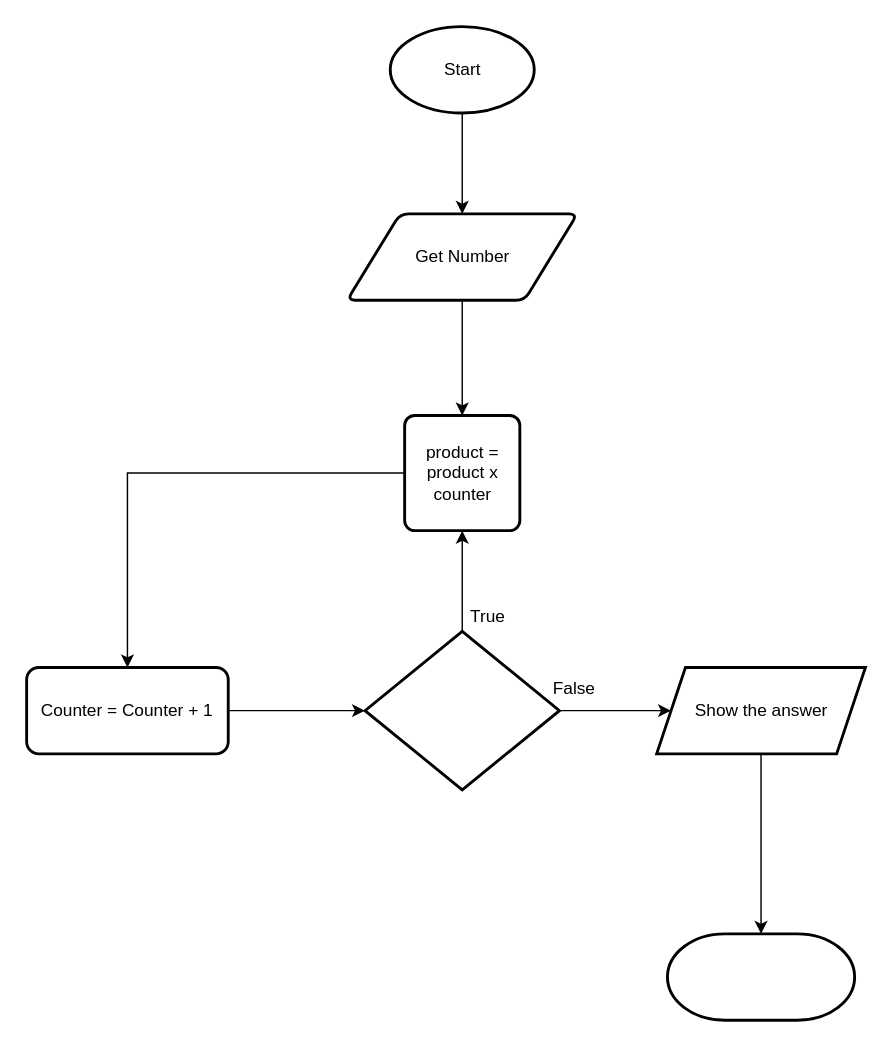
The diagram is 891 pixels wide and 1045 high, and some of its shapes have lost their labels. The shapes that lost their labels are listed below. From the top down, each one's centre as x and y in pixels, then its label:
At pixel 461 710: "While Counter <= Number".
At pixel 760 976: "Stop".
